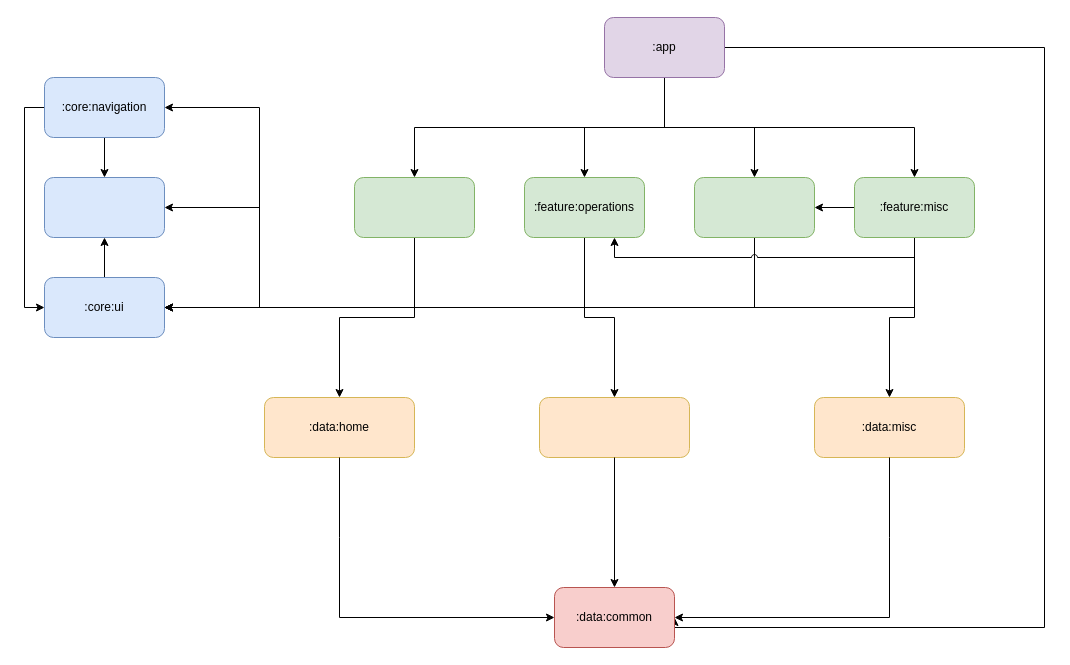
The diagram is 1070 pixels wide and 665 high, and some of its shapes have lost their labels. Each missing label, with the centre of its shape:
":core:test" goes at point 104,207.
":data:operations" goes at point 614,427.
":feature:home" goes at point 414,207.
":feature:settings" goes at point 754,207.
